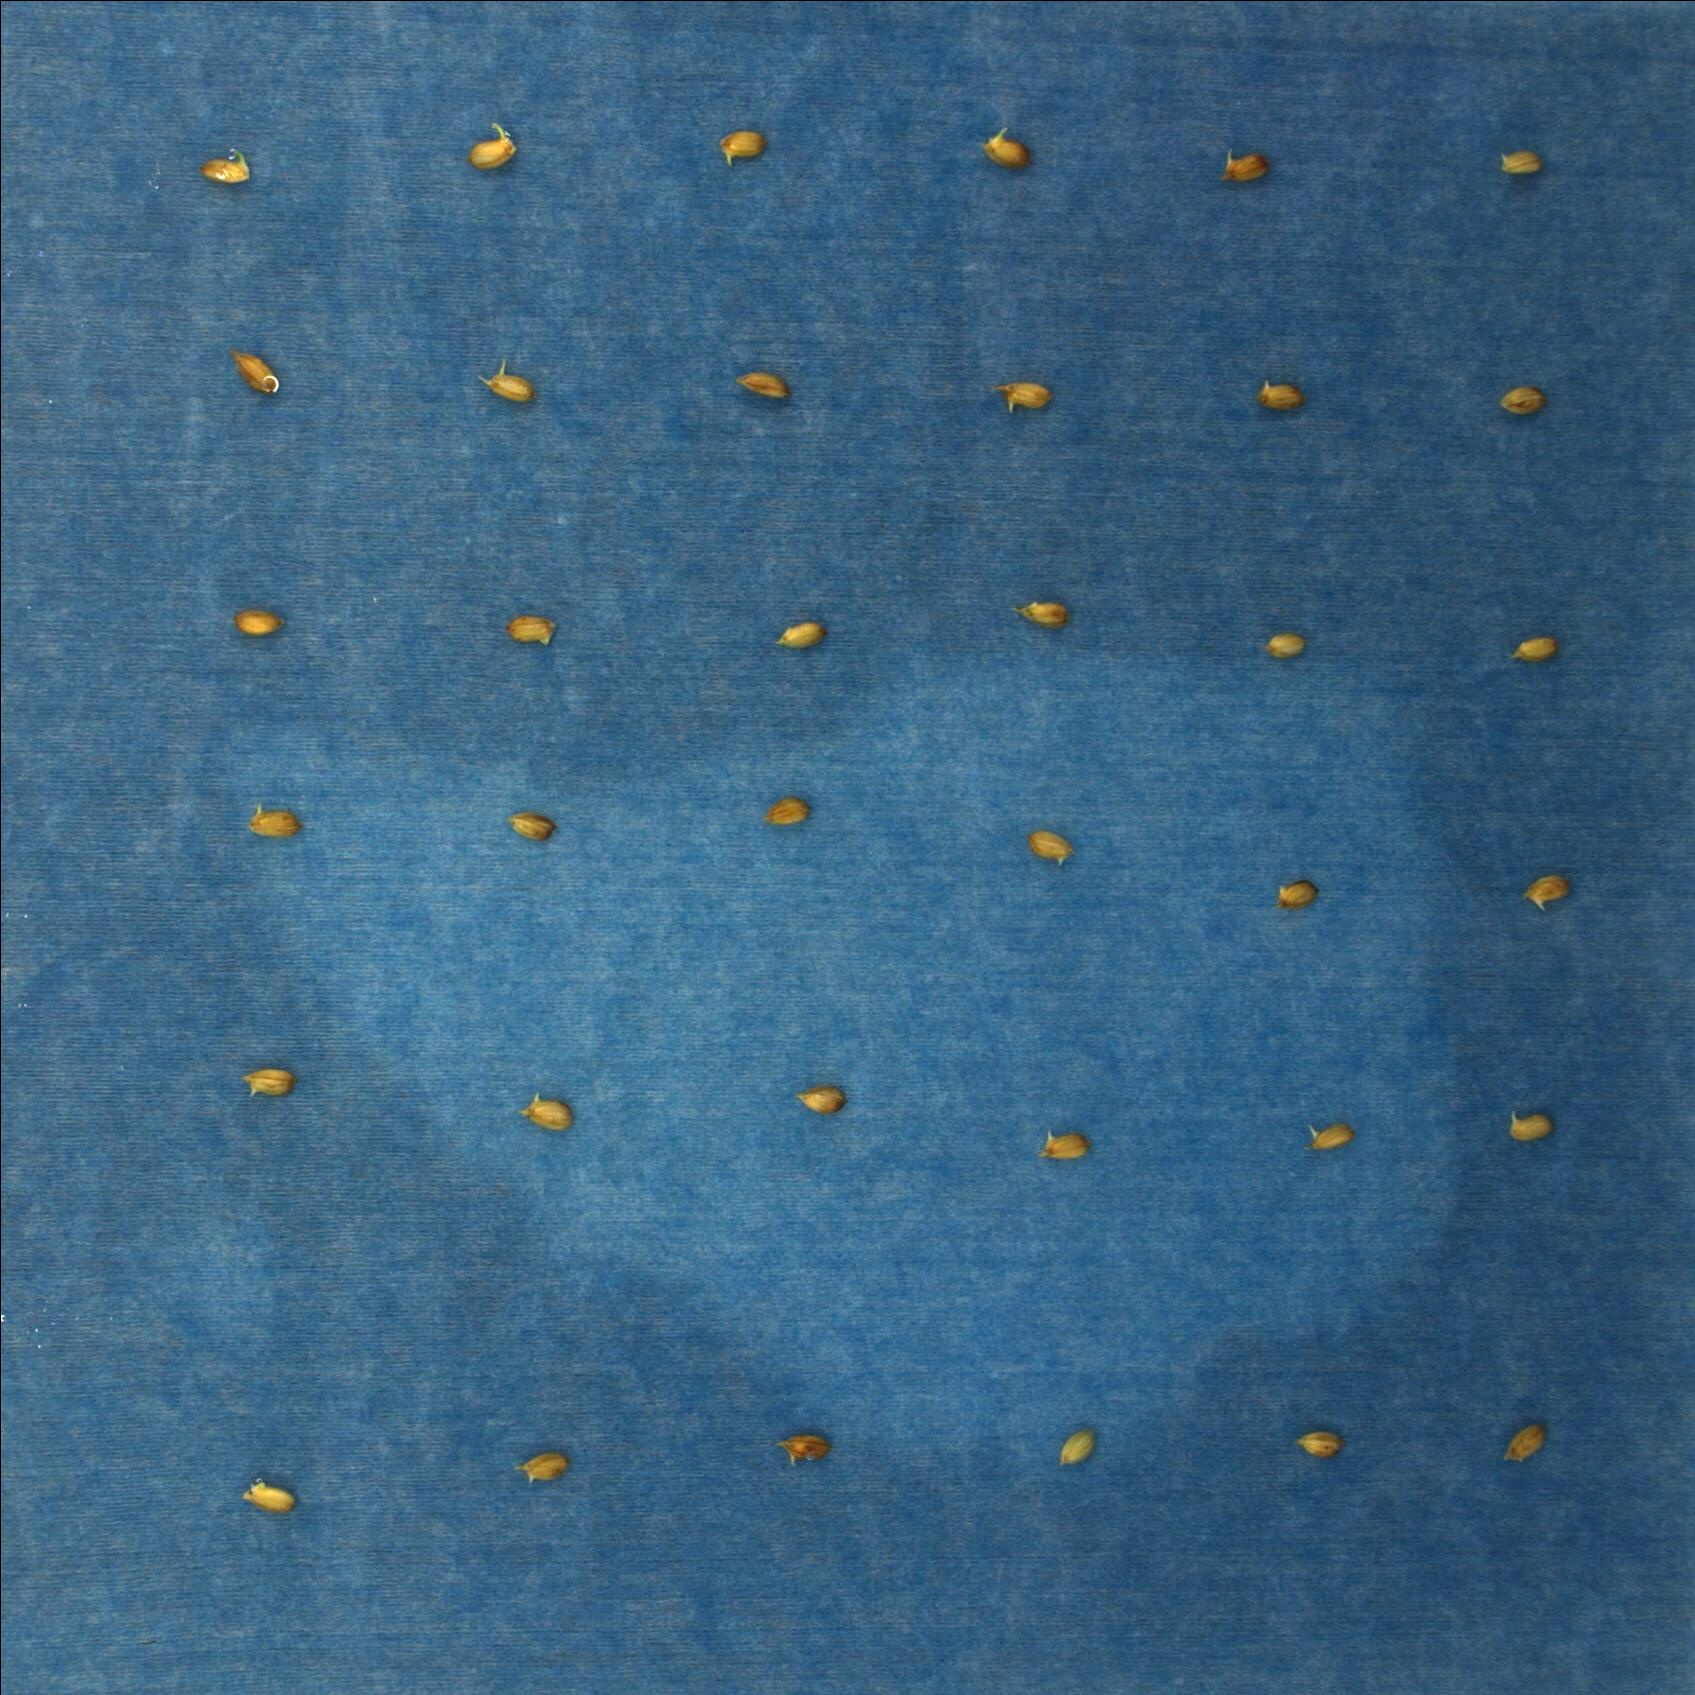not sprout: (477, 357, 532, 407), (227, 349, 279, 394), (245, 802, 304, 840), (511, 1448, 565, 1489), (979, 126, 1028, 171), (1052, 1423, 1101, 1468), (1506, 1420, 1551, 1468), (771, 1433, 827, 1470), (469, 126, 517, 168), (234, 1481, 295, 1513), (993, 380, 1051, 413), (1218, 146, 1267, 185), (522, 1093, 570, 1132), (200, 147, 251, 183), (508, 612, 557, 647), (719, 130, 765, 168), (1028, 830, 1076, 866), (508, 810, 557, 844), (1037, 1130, 1091, 1161), (230, 607, 286, 636), (1298, 1423, 1346, 1458), (1523, 875, 1568, 910), (733, 376, 787, 404), (1504, 1110, 1552, 1141), (1253, 380, 1305, 408), (244, 1069, 296, 1097), (778, 621, 821, 653), (798, 1087, 847, 1114), (1012, 601, 1066, 626), (1257, 630, 1305, 657), (1277, 879, 1322, 906), (1513, 636, 1562, 661), (1499, 386, 1544, 411), (771, 799, 809, 827), (1499, 147, 1540, 172), (1315, 1124, 1350, 1152)
